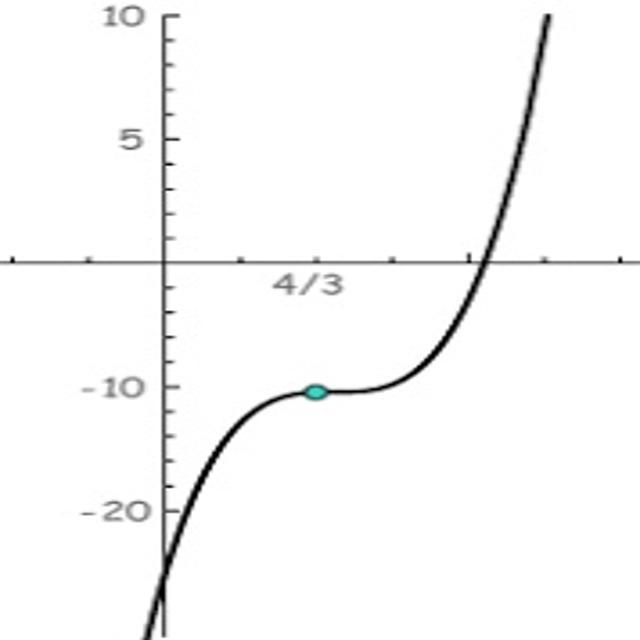axis: (159, 9, 182, 640), (0, 249, 640, 268)
line: (138, 8, 559, 639)
